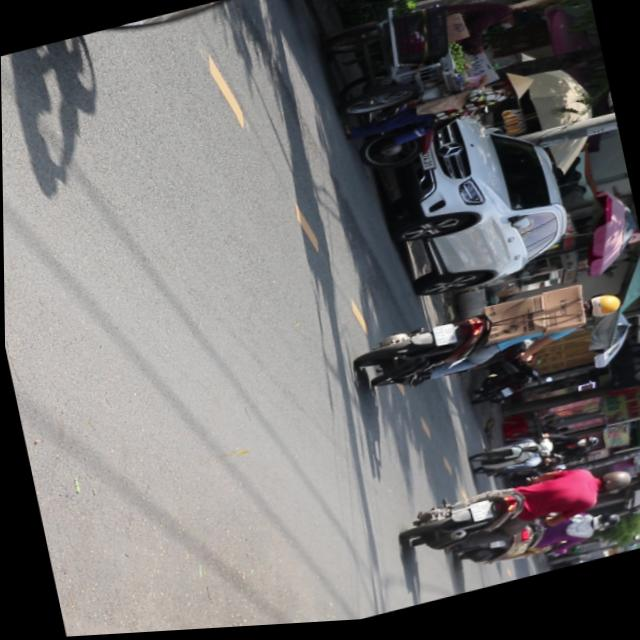helmet: (582, 297, 623, 327), (593, 473, 633, 502), (591, 516, 620, 539)
licenseplate: (350, 277, 630, 406), (395, 457, 638, 567), (451, 507, 625, 584)
nohelmet: (431, 327, 456, 353), (468, 506, 491, 528)
